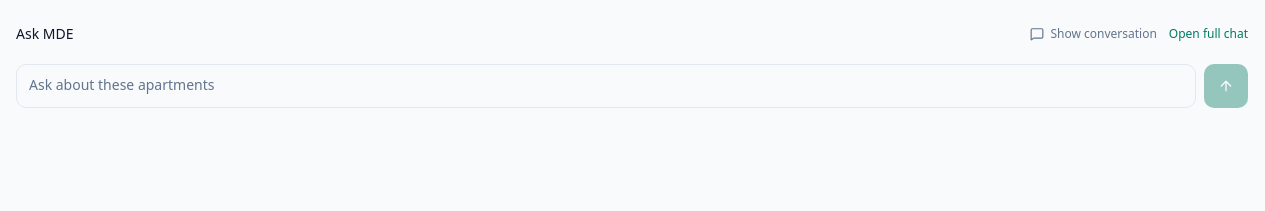
Test case: RentalAskComposer (SAN-1421) › updates the transcript from the agent's live messages, not just the first render
This screenshot has width=1265, height=211.
Click the button with test id "rental-ask-toggle-transcript".
click(1094, 34)  # box [1030,12,1157,56]
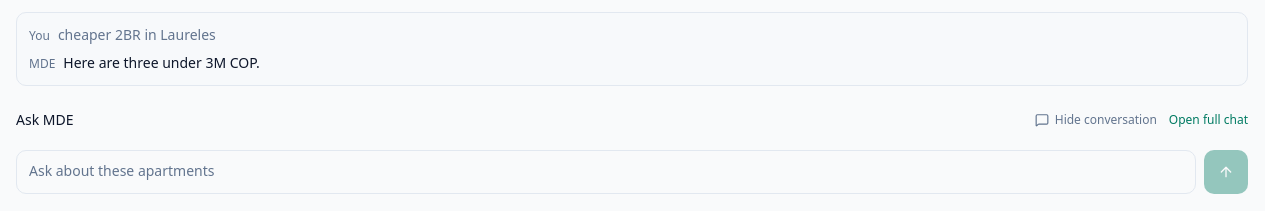
Result: the list with test id "rental-ask-transcript" shows "cheaper 2BR in Laureles" at [58,25,216,44]
Result: the list with test id "rental-ask-transcript" shows "Here are three under 3M COP." at [63,53,260,72]
